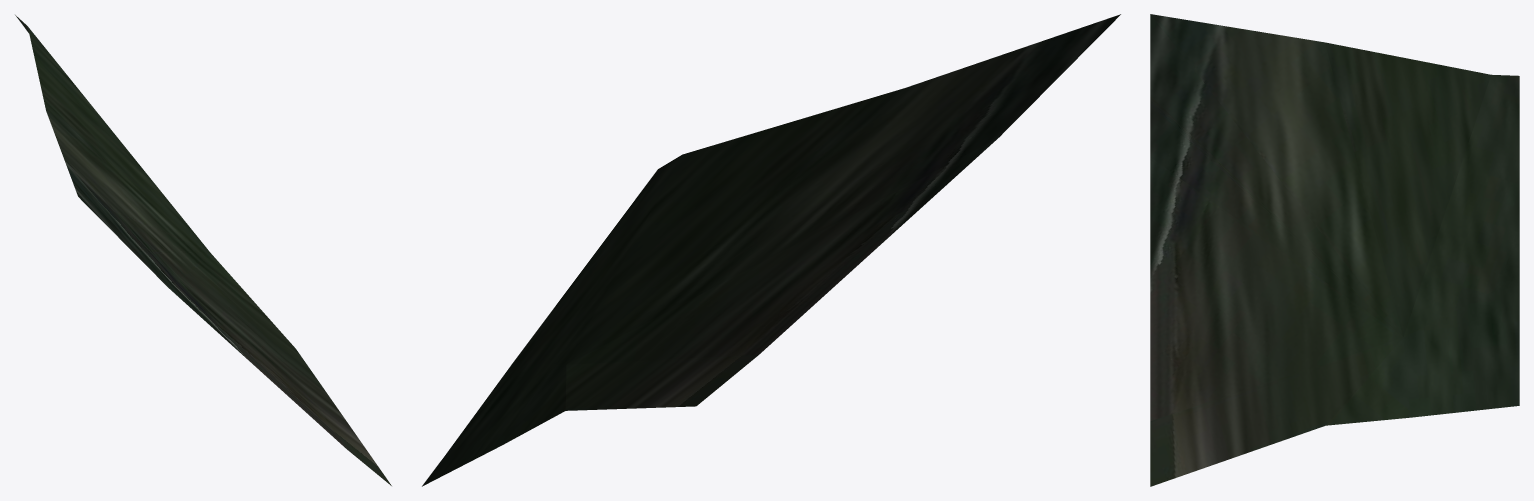
3 views of the same model, side by side, from view 1: azimuth 30°, elevation 25°; view 2: azimuth 150°, elevation 25°; view 3: azimuth 270°, elevation 25° (orthographic). The views are drawn at different scales.
Size of the model in its own units: 2.63 by 2.94 by 2.95.
3 materials, 3 textured.
